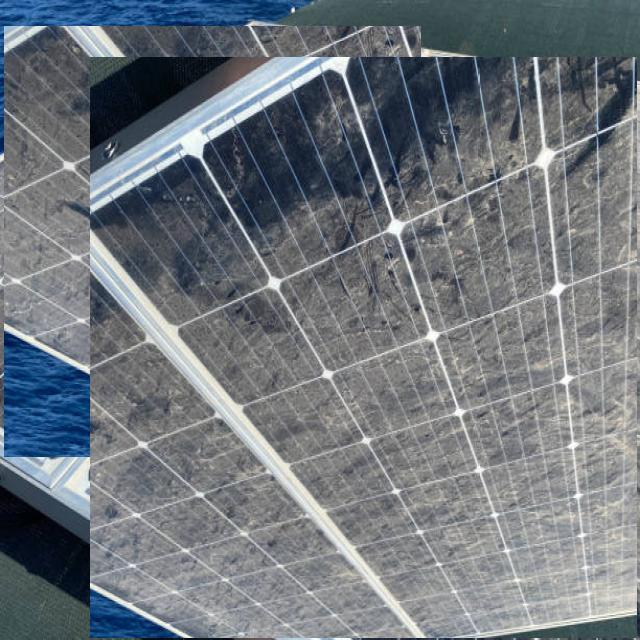Dusty: (91, 58, 637, 638), (4, 26, 421, 457)
